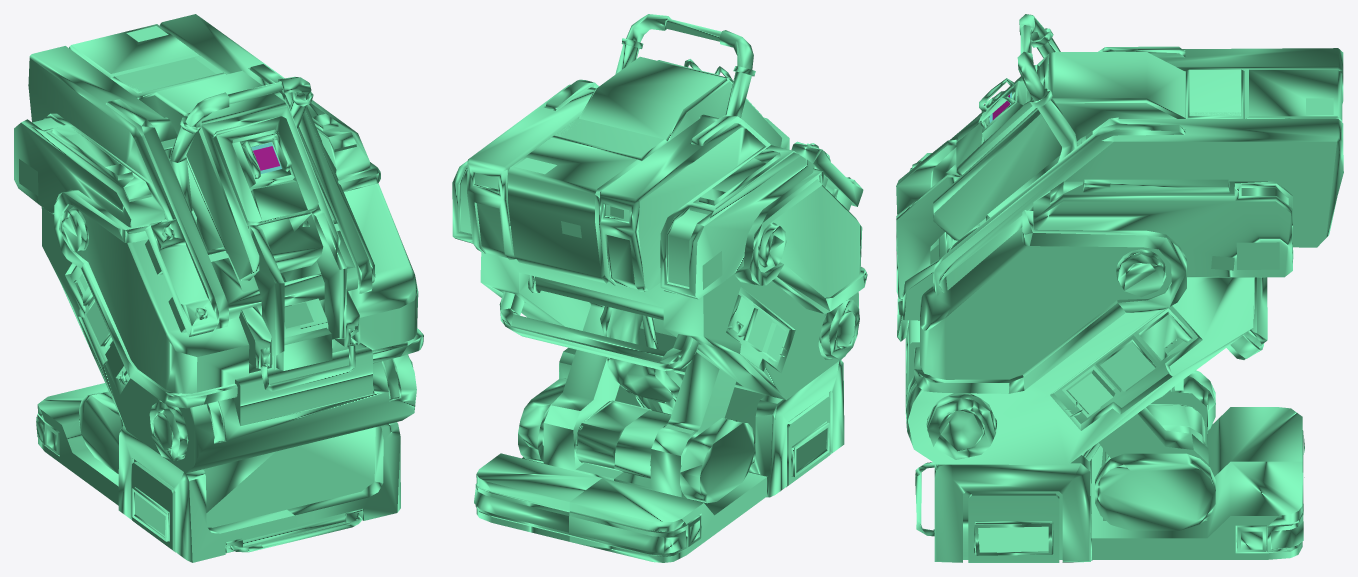
File: uee_lawless_prop_gravityterminal_01.glb
3 views of the same model, side by side, from view 1: azimuth 30°, elevation 25°; view 2: azimuth 150°, elevation 25°; view 3: azimuth 270°, elevation 25° (orthographic). The views are drawn at different scales.
Bounding box in the file's own units: 1.01 × 1.54 × 1.33.
